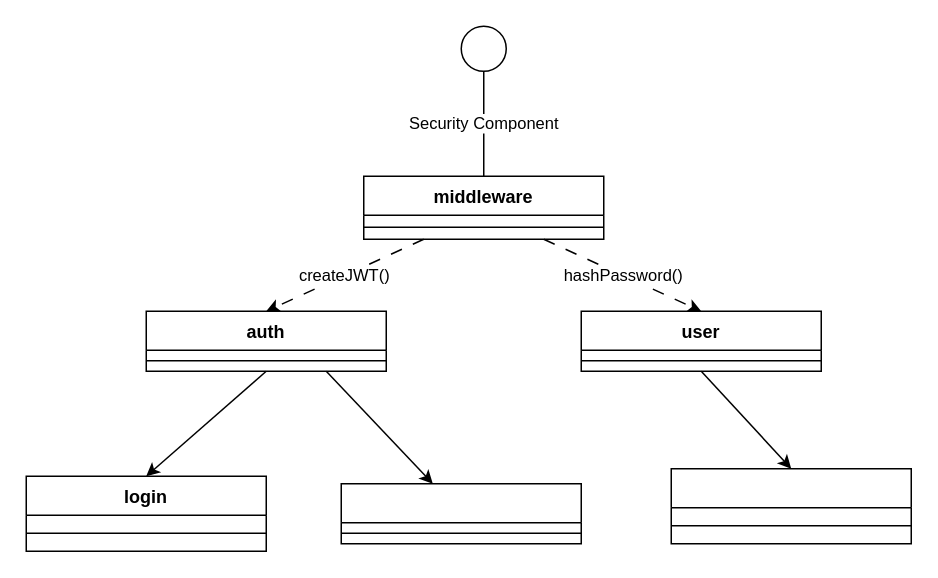
The diagram is 938 pixels wide and 578 high, and some of its shapes have lost their labels. The centre of each missing label's shape, as x and y in pixels:
"changePassw" goes at (x=790, y=505).
"register" goes at (x=460, y=513).
